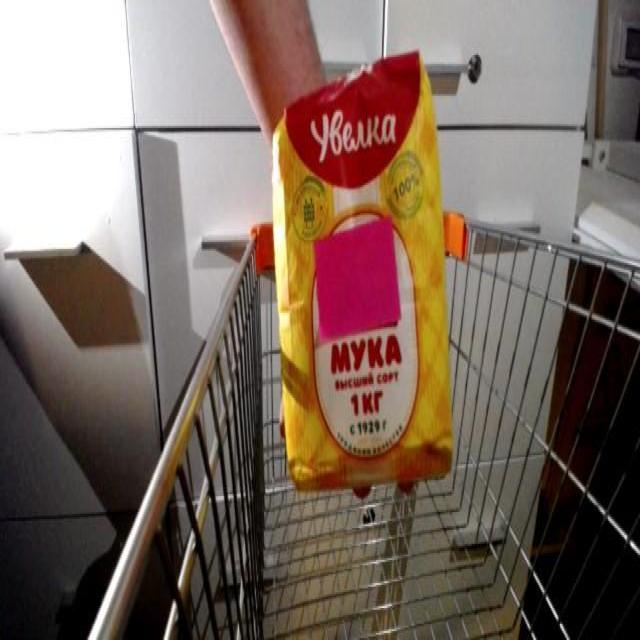Almond Milk: (267, 39, 466, 501)
